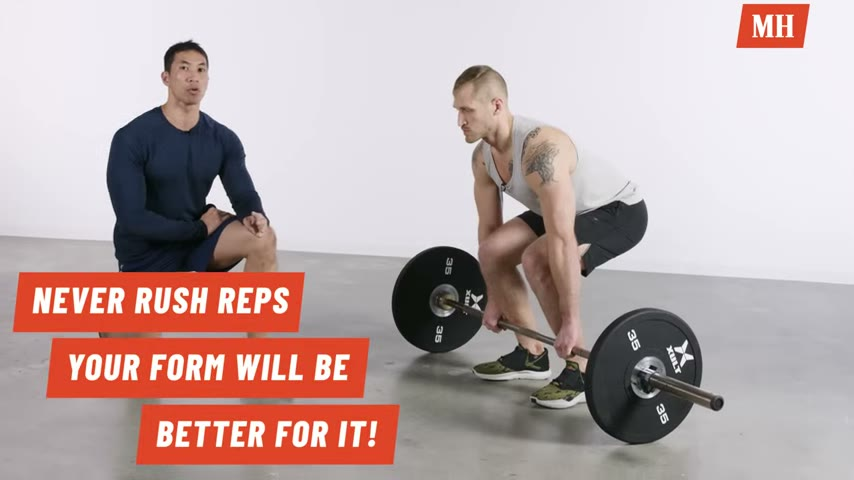barbell_plate_side: (384, 246, 476, 457), (634, 287, 725, 449)
